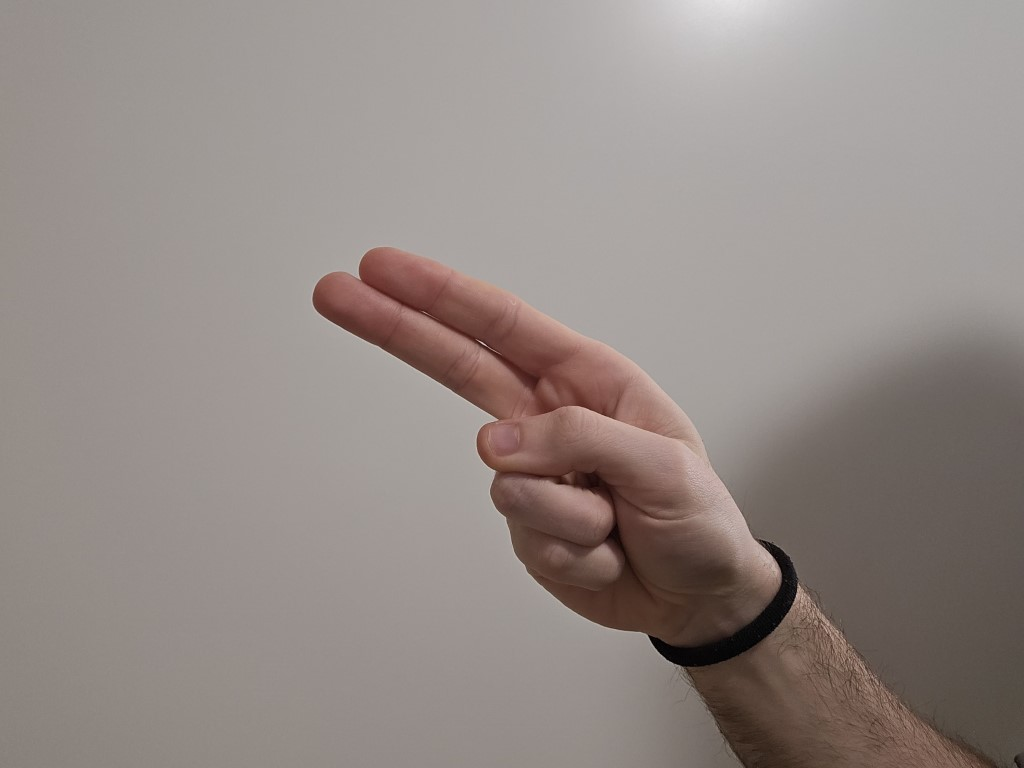h: (300, 227, 746, 630)
